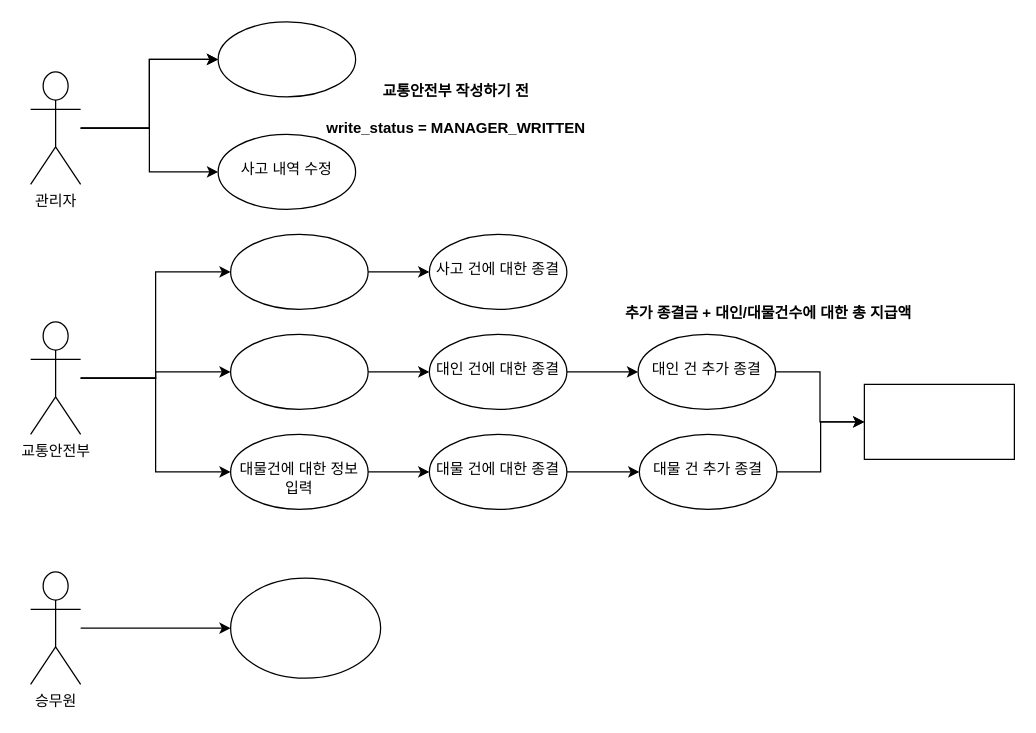
Image size: 1036x733. Some labels were removed from this diagram. Each missing label, with the centre of its shape:
대인 건에 대한 정보 입력: pixel 298 371
사고 건수에 대한 정보 입력: pixel 298 271
사고 건에 대한 조회 기능: pixel 305 627
사고 입력: pixel 286 59
서버 : 해당하는 사고 건에 대한 총 지급 액 수정: pixel 938 421
